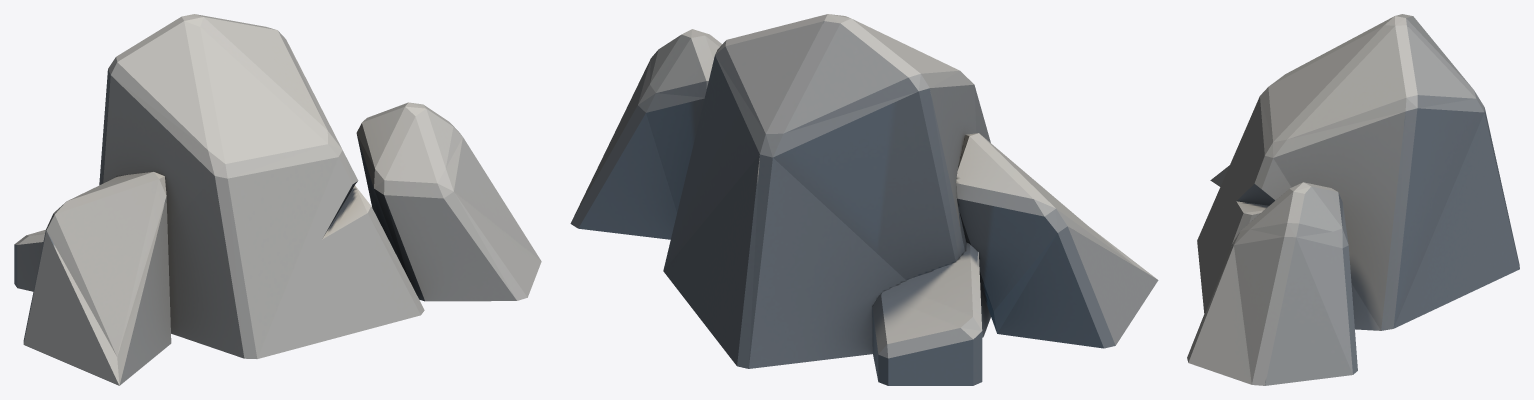
File: 094bde63-f09e-40f1-8e13-6ebc5e753b24.glb
The picture shows the model from 3 angles, left to right: view 1: azimuth 30°, elevation 25°; view 2: azimuth 150°, elevation 25°; view 3: azimuth 270°, elevation 25°; orthographic projection. The views are drawn at different scales.
Visible parts, largest first — view 1: stone; view 2: stone; view 3: stone.
Part boxes in pixels (box(x1,y1,x2,y2)): stone: box(14, 14, 541, 385); stone: box(570, 14, 1158, 385); stone: box(1187, 14, 1519, 385).
Bounding box in the file's own units: 2.01 × 1.02 × 1.29.
1 material, 1 textured.
